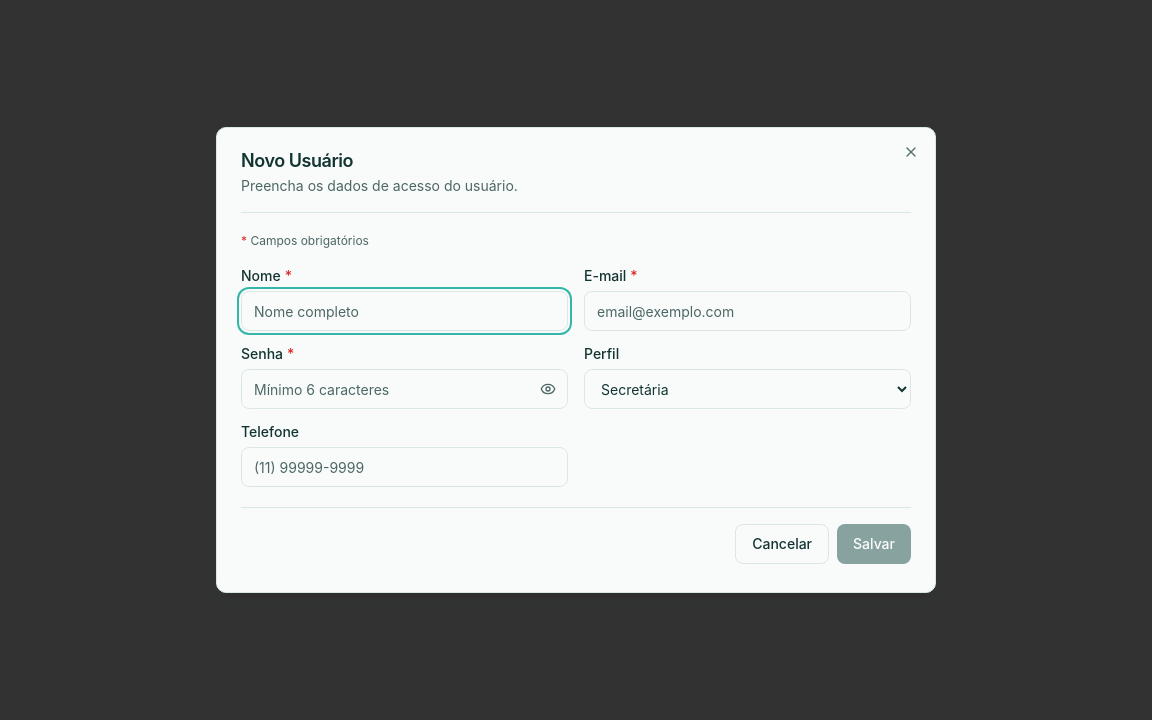
Test case: UsuarioModal › máscara de telefone › deve formatar telefone enquanto digita
In the field labelled "Telefone": (404,467) [241, 447, 568, 487], type "11999990000"
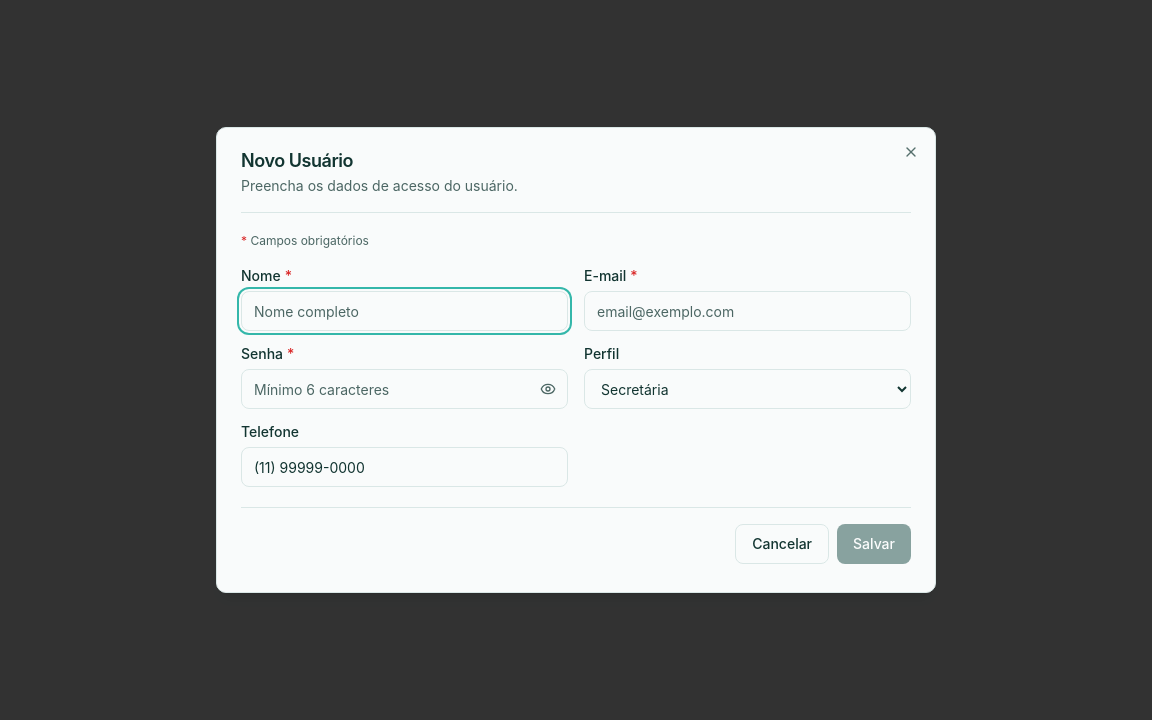
Expected: the field labelled "Telefone" holds "(11) 99999-0000", [241, 447, 568, 487]
